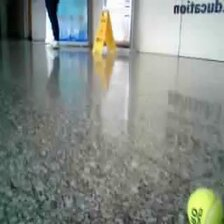tennis: (186, 187, 223, 224)
